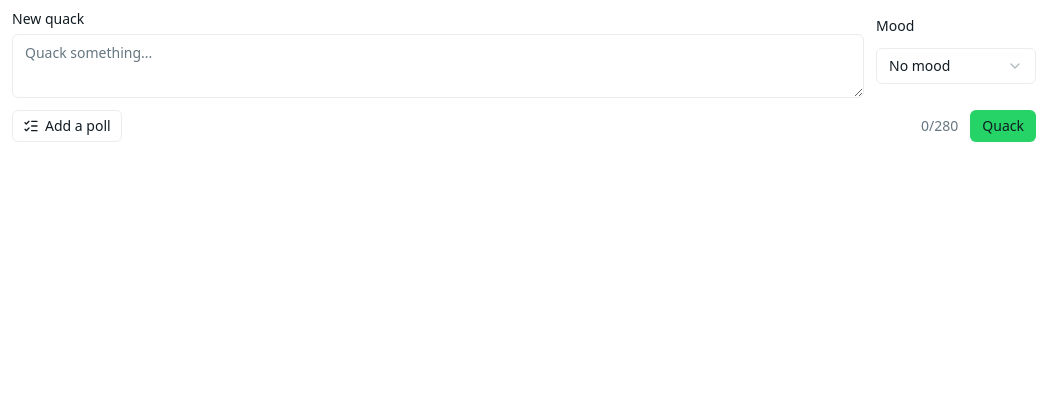
QuackForm poll › says what is wrong with an answer of , under that answer
In the text box labelled "New quack": x=438, y=66 x1=12 y1=34 x2=864 y2=98, type "Where do we go for lunch?"
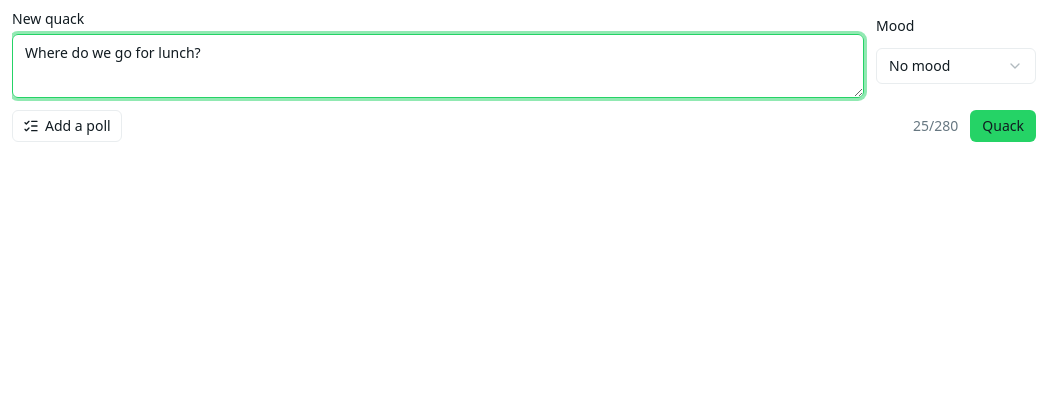
Click the button "Add a poll": x=67, y=126 x1=12 y1=110 x2=122 y2=142
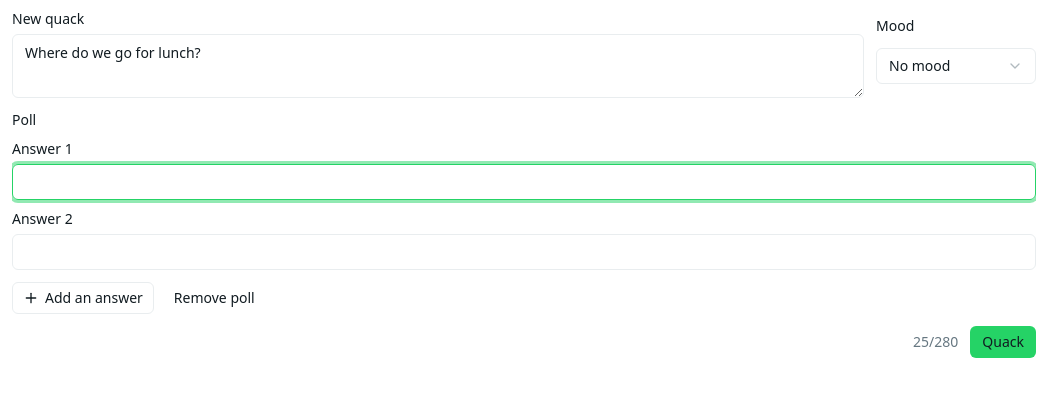
In the field labelled "Answer 1": x=524, y=182 x1=12 y1=164 x2=1036 y2=200, type "Pizza"
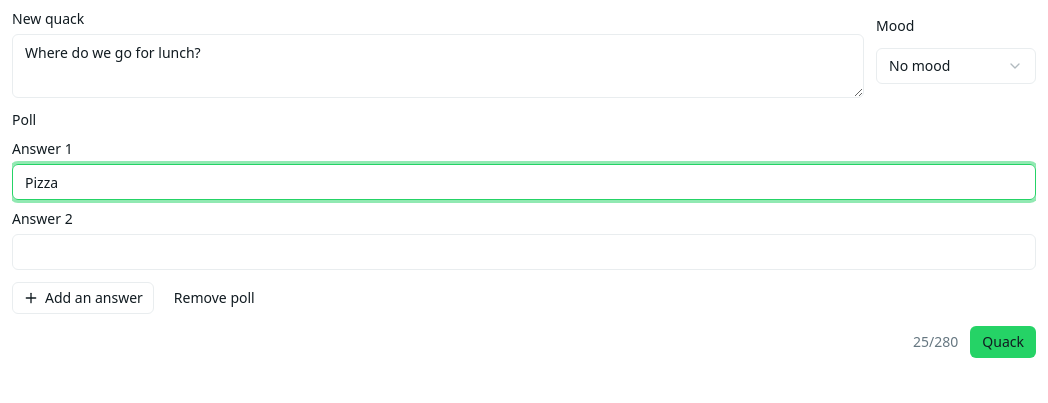
Click the button "Quack": x=1003, y=342 x1=970 y1=326 x2=1036 y2=358
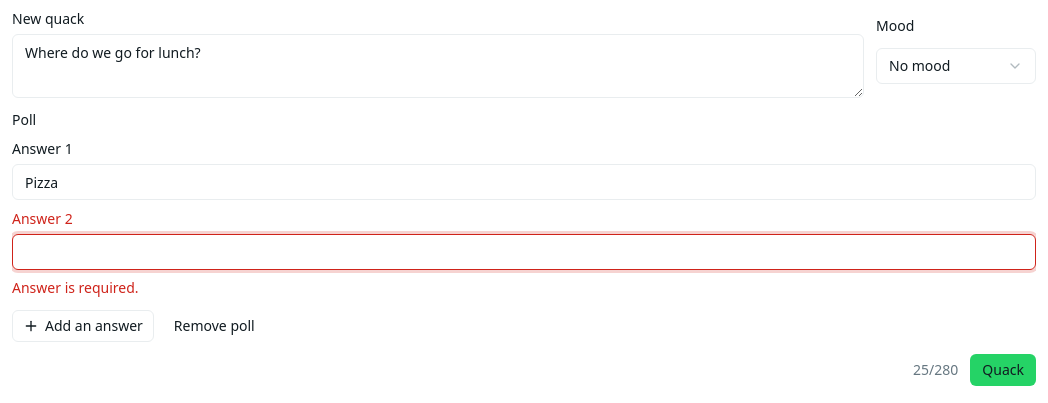
Result: the text "Answer is required." is shown at x1=12 y1=278 x2=139 y2=297
